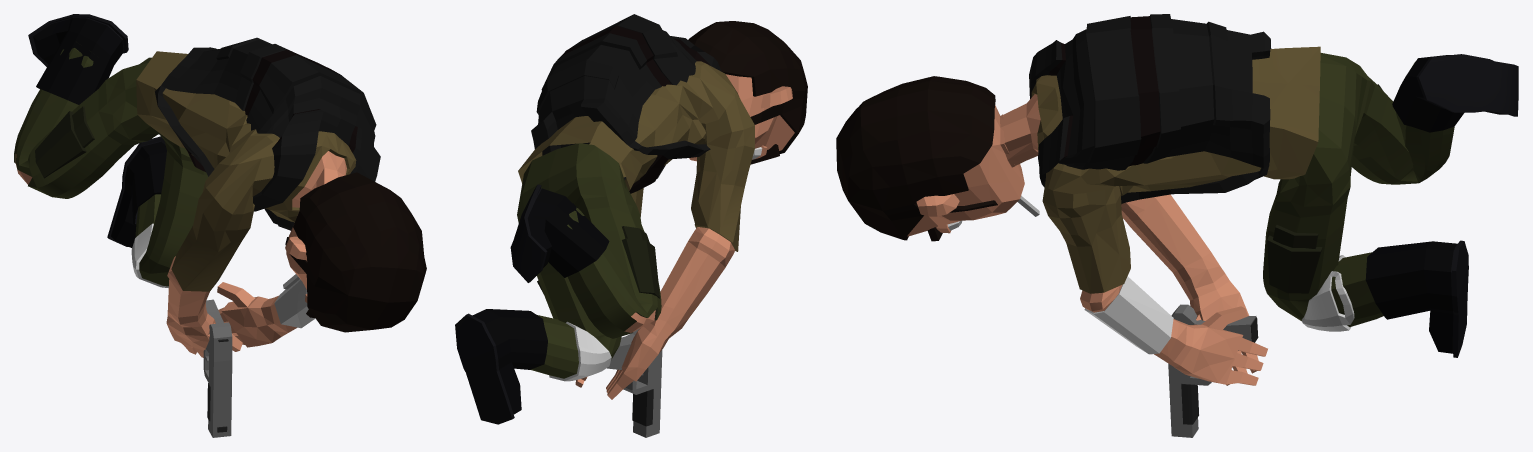
Rendered from frame_0045.obj.
3 renders of one model, left to right at view 1: azimuth 30°, elevation 25°; view 2: azimuth 150°, elevation 25°; view 3: azimuth 270°, elevation 25°, orthographic. The views are drawn at different scales.
Visible parts, largest first — view 1: Body, Gun; view 2: Body, Gun; view 3: Body, Gun.
Boxes of the visible parts, x1=… form: Body: x1=14, y1=14, x2=426, y2=357; Gun: x1=203, y1=299, x2=232, y2=437; Body: x1=455, y1=14, x2=807, y2=424; Gun: x1=607, y1=328, x2=662, y2=437; Body: x1=836, y1=14, x2=1518, y2=385; Gun: x1=1168, y1=304, x2=1258, y2=437.
Size of the model in its own units: 1.43 by 2.39 by 3.4.
